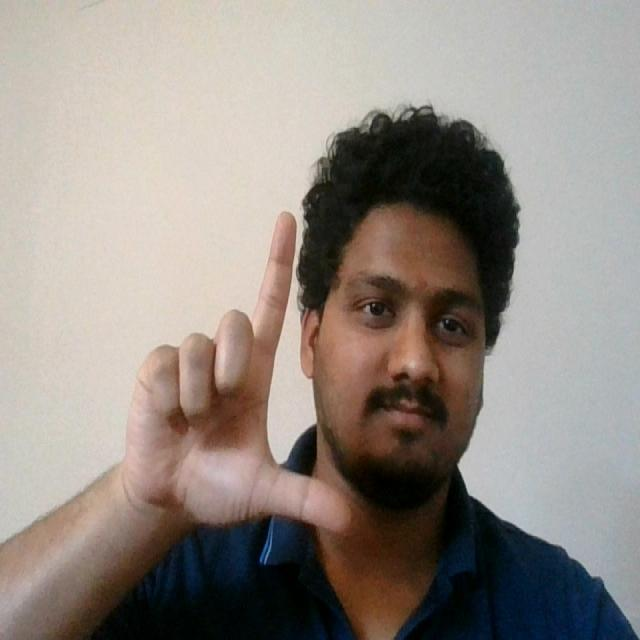IloveYou: (118, 200, 358, 545)
